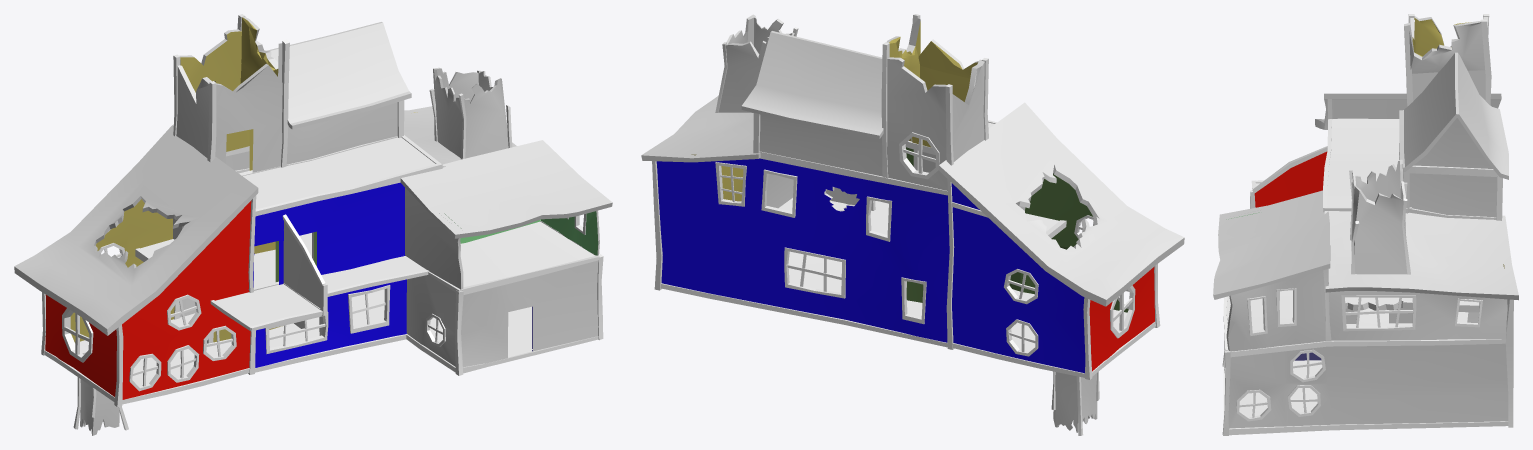
The model's file is fullhouse.fbx.
3 renders of one model, left to right at view 1: azimuth 30°, elevation 25°; view 2: azimuth 150°, elevation 25°; view 3: azimuth 270°, elevation 25°, orthographic. The views are drawn at different scales.
Visible parts, largest first — view 1: Cube.001; view 2: Cube.001; view 3: Cube.001.
Part boxes in pixels (x1,y1,x2,y2): Cube.001: (14, 14, 612, 435); Cube.001: (641, 14, 1184, 435); Cube.001: (1213, 14, 1518, 435).
Bounding box in the file's own units: 2677 × 1984 × 1483.
